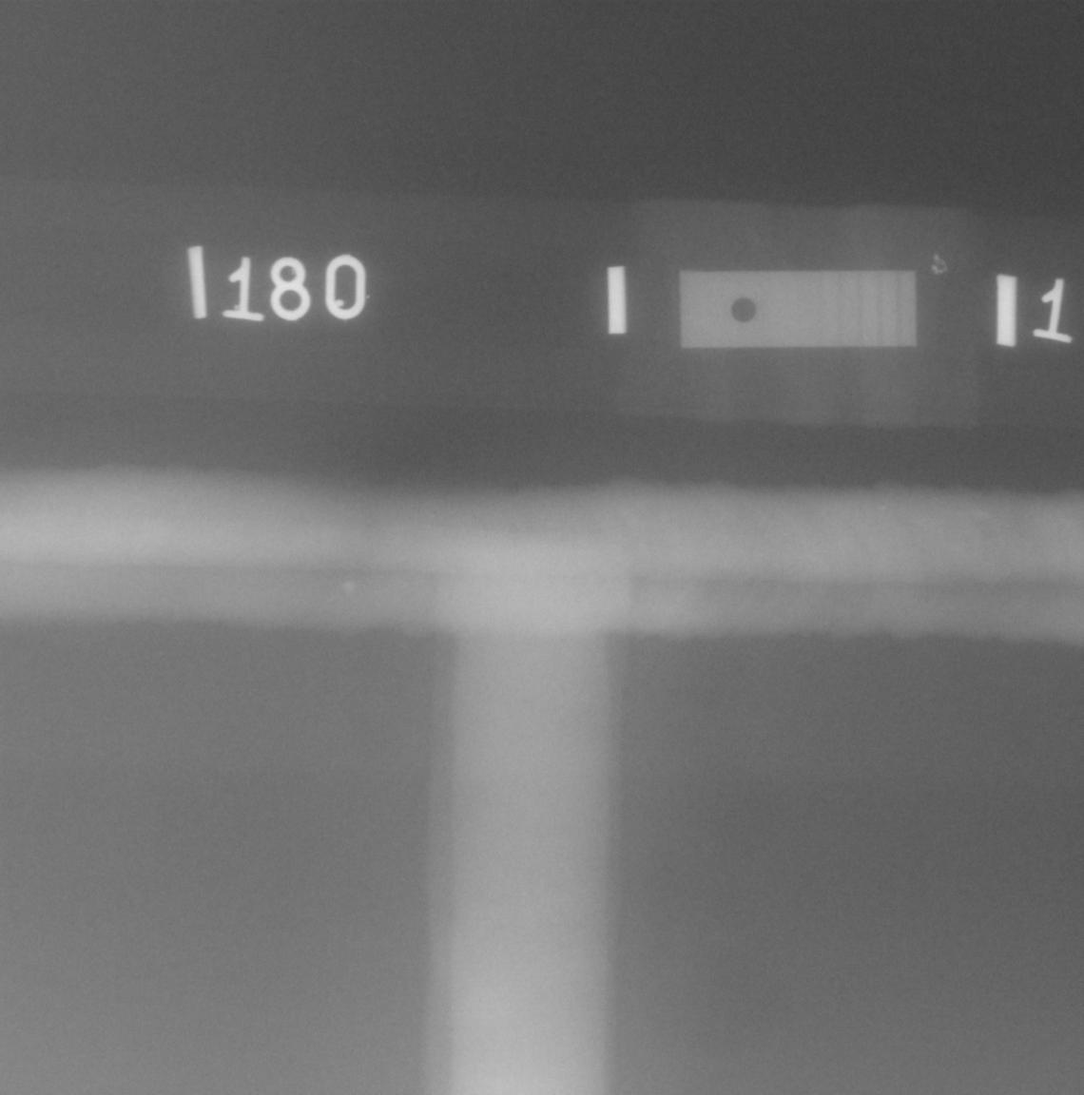Reference Standard 1: (679, 269, 917, 349)
